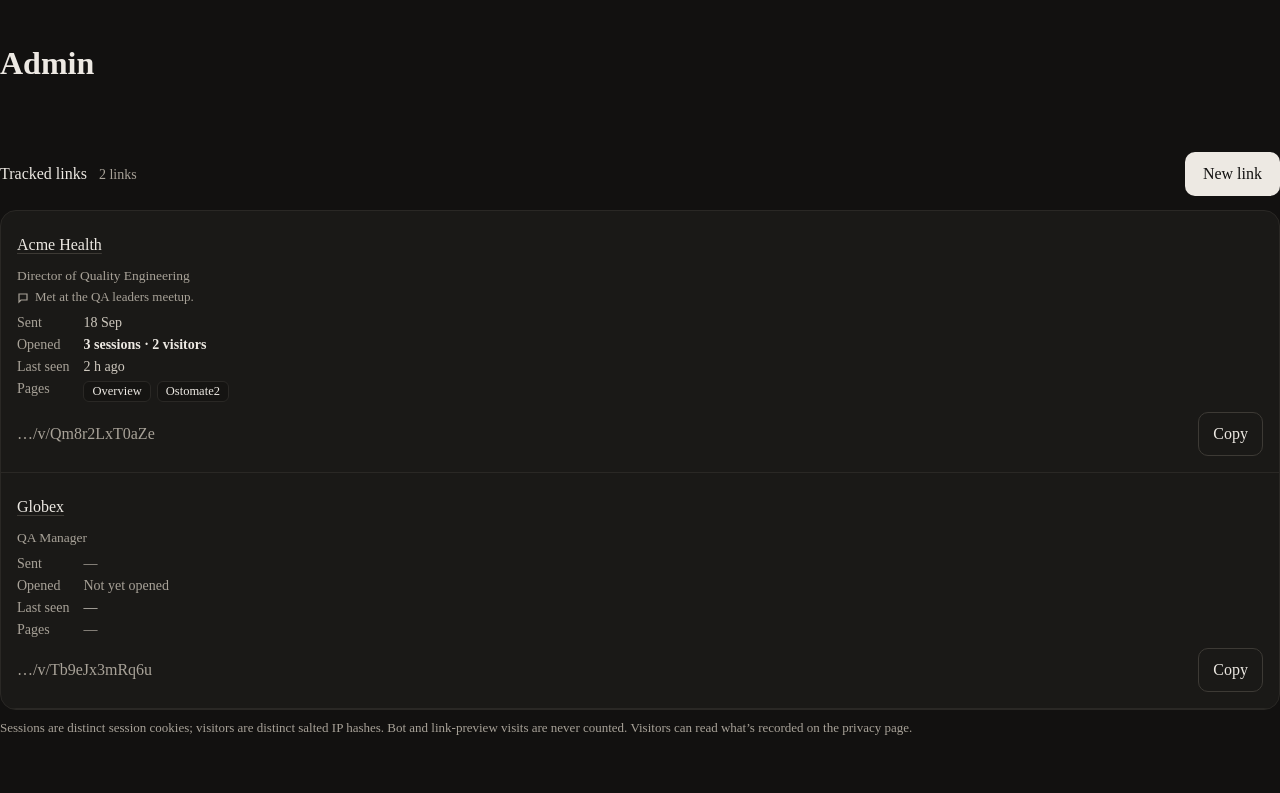
Test: AdminLinks create form › marks Company and Role when they are blank, and sends nothing
This screenshot has width=1280, height=793.
Click the button "New link" at (1232, 174), box 1185,152 -> 1279,196
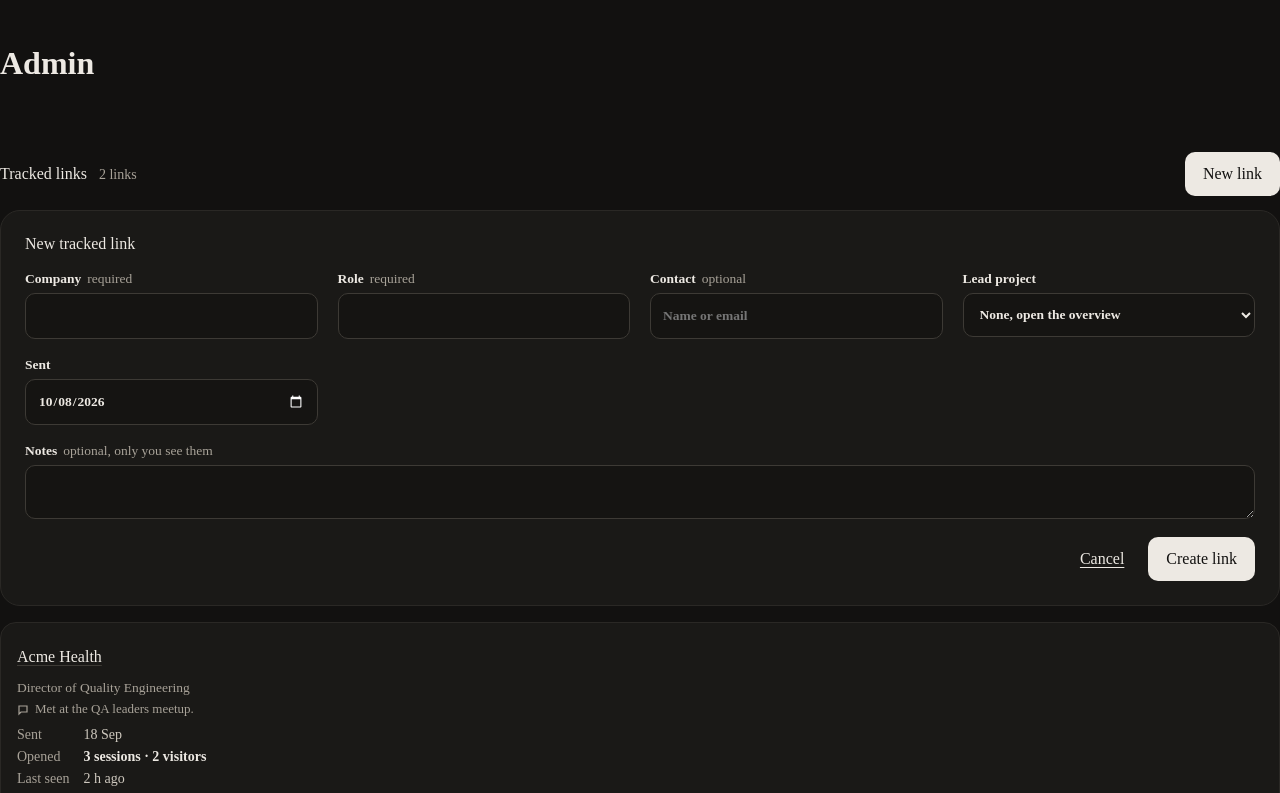
Click the button "Create link" at (1202, 559), box 1148,537 -> 1255,581
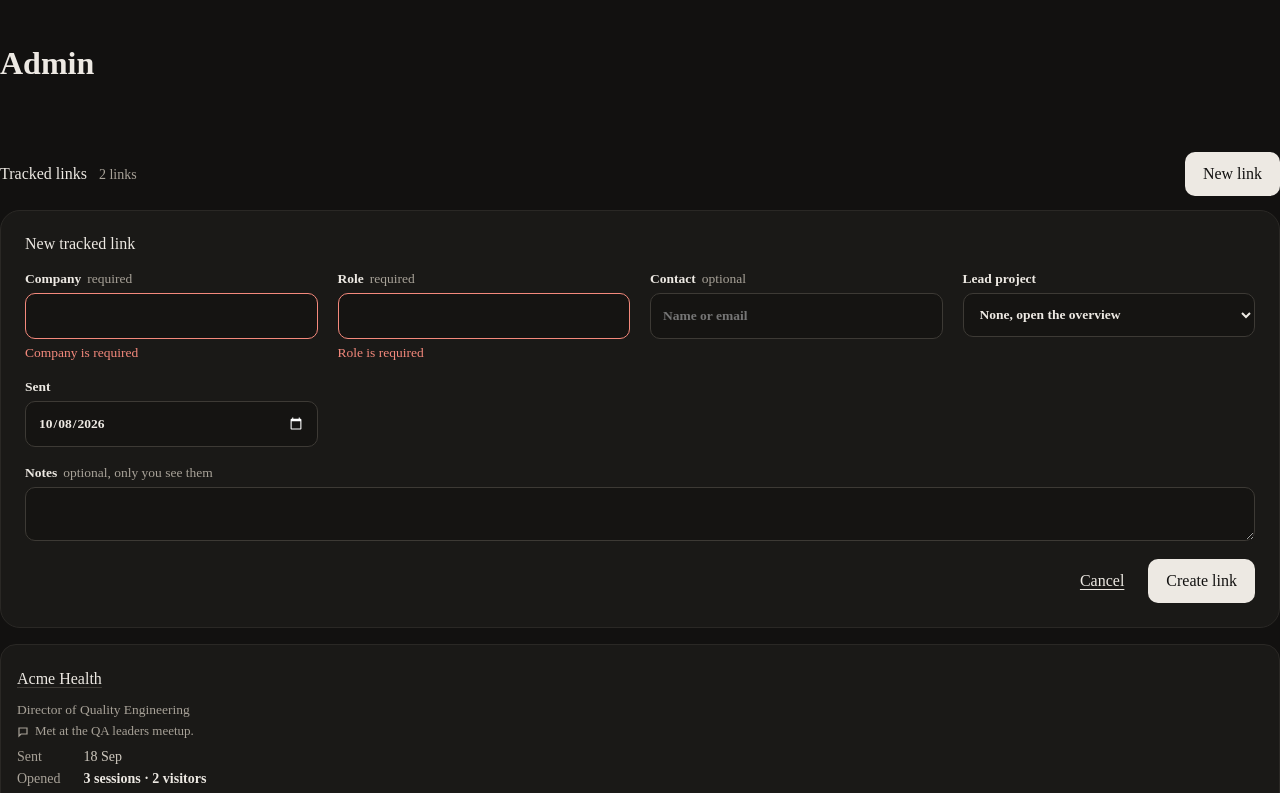
Expected: the text "Role is required" is shown, 338,345 -> 424,360
